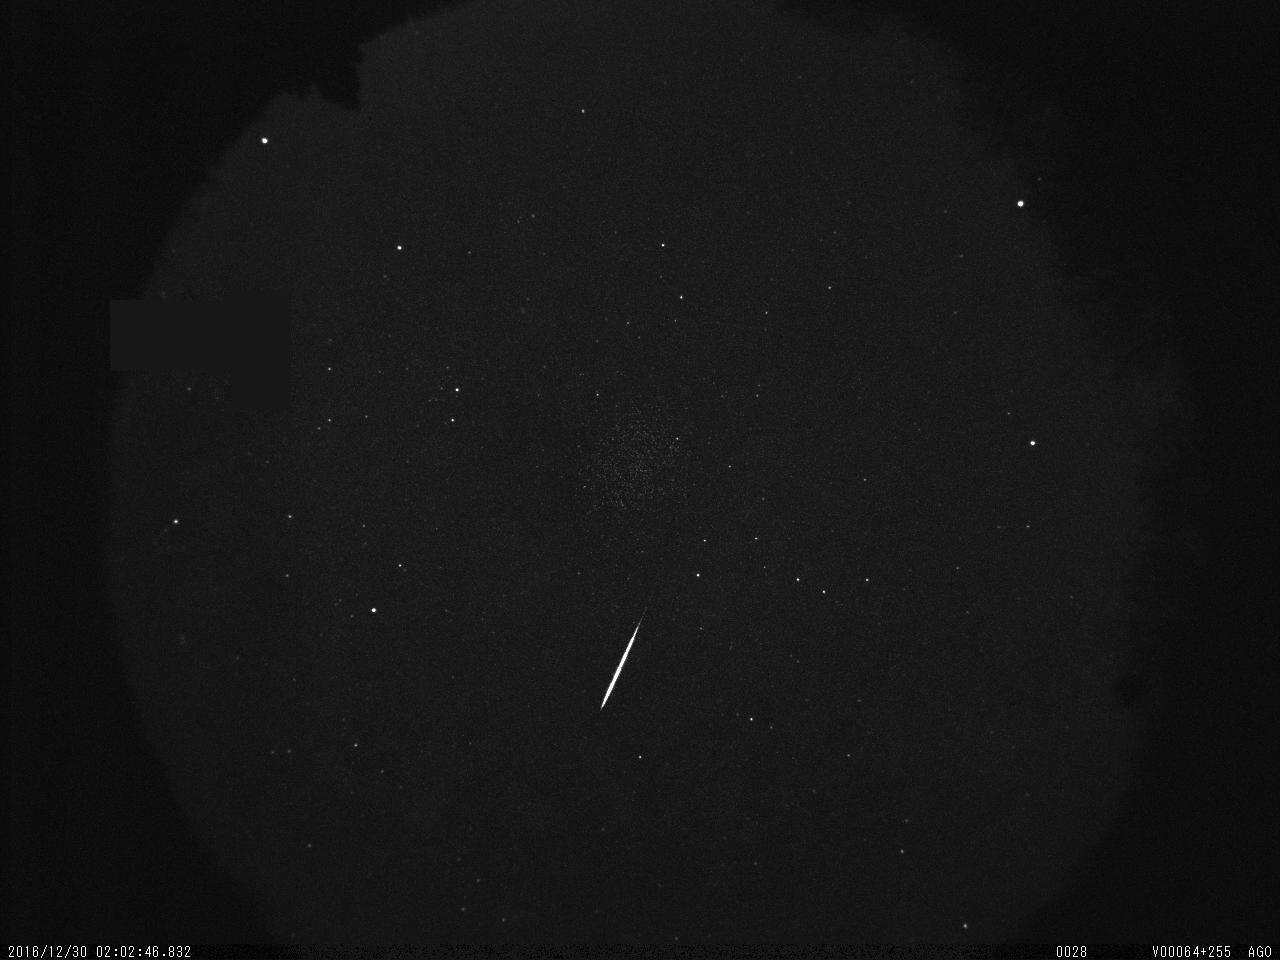Meteor: (596, 606, 648, 712)
